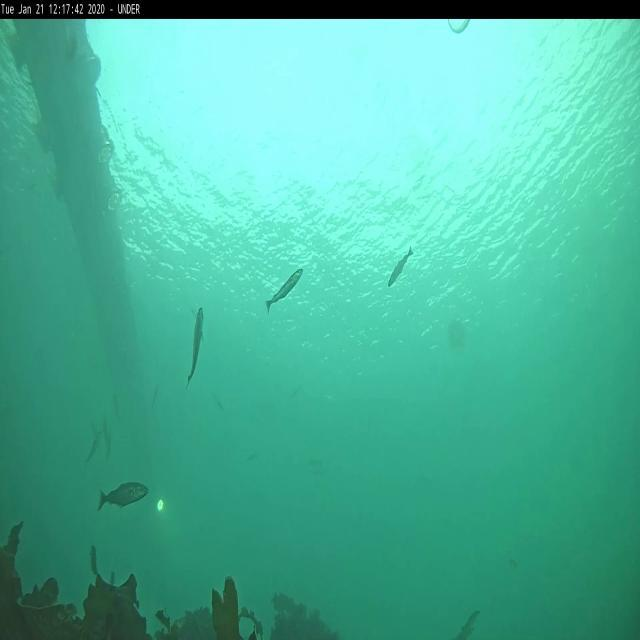fish: (264, 265, 304, 316), (186, 303, 203, 392), (96, 482, 150, 508), (388, 244, 414, 289), (85, 432, 102, 466), (90, 421, 104, 452), (112, 392, 124, 426), (150, 379, 160, 414), (105, 431, 111, 464), (102, 410, 106, 448)
